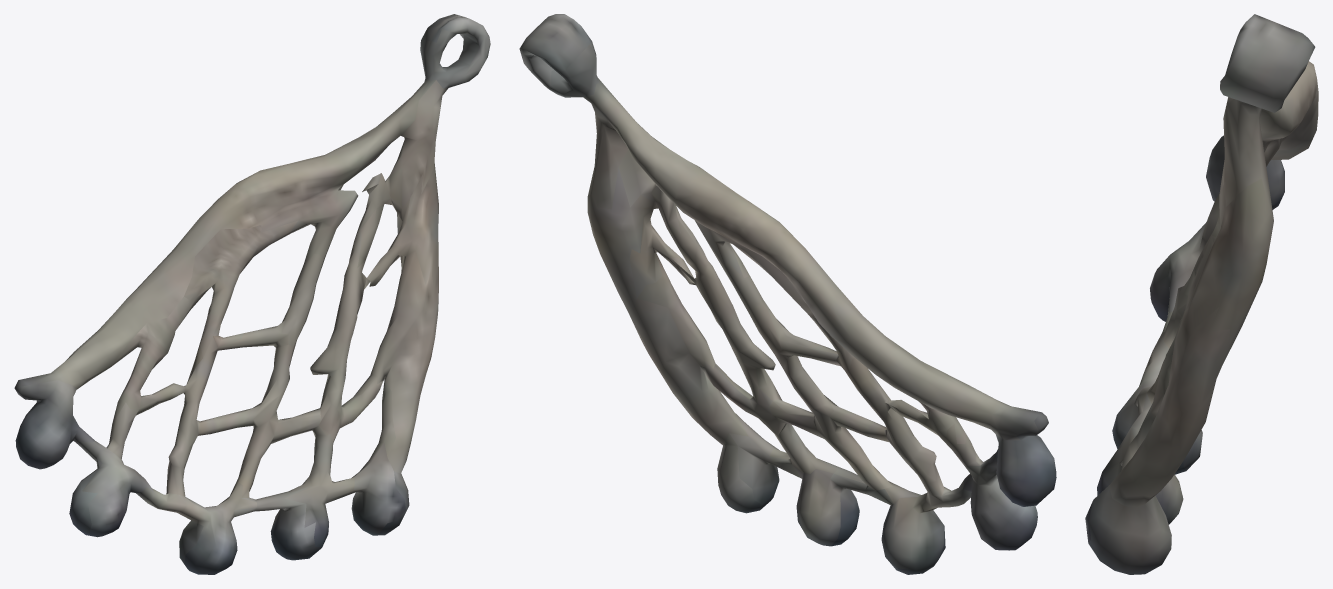
File: v23_puca.glb
3 renders of one model, left to right at view 1: azimuth 30°, elevation 25°; view 2: azimuth 150°, elevation 25°; view 3: azimuth 270°, elevation 25°, orthographic. The views are drawn at different scales.
Visible parts, largest first — view 1: v23_puca; view 2: v23_puca; view 3: v23_puca.
Boxes of the visible parts, bbox=[...] form: v23_puca: bbox=[14, 14, 490, 574]; v23_puca: bbox=[519, 14, 1056, 574]; v23_puca: bbox=[1085, 14, 1318, 574].
Size of the model in its own units: 0.5485 by 0.5143 by 0.1665.
Materials: 1 (1 with a texture image).
